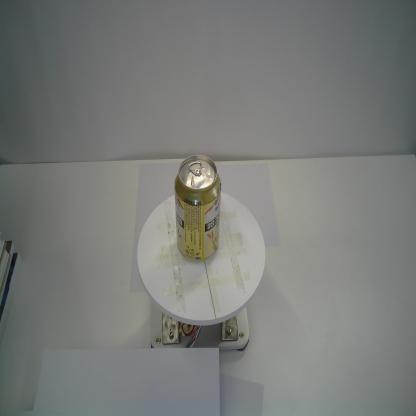Alcohol: (174, 153, 221, 264)
